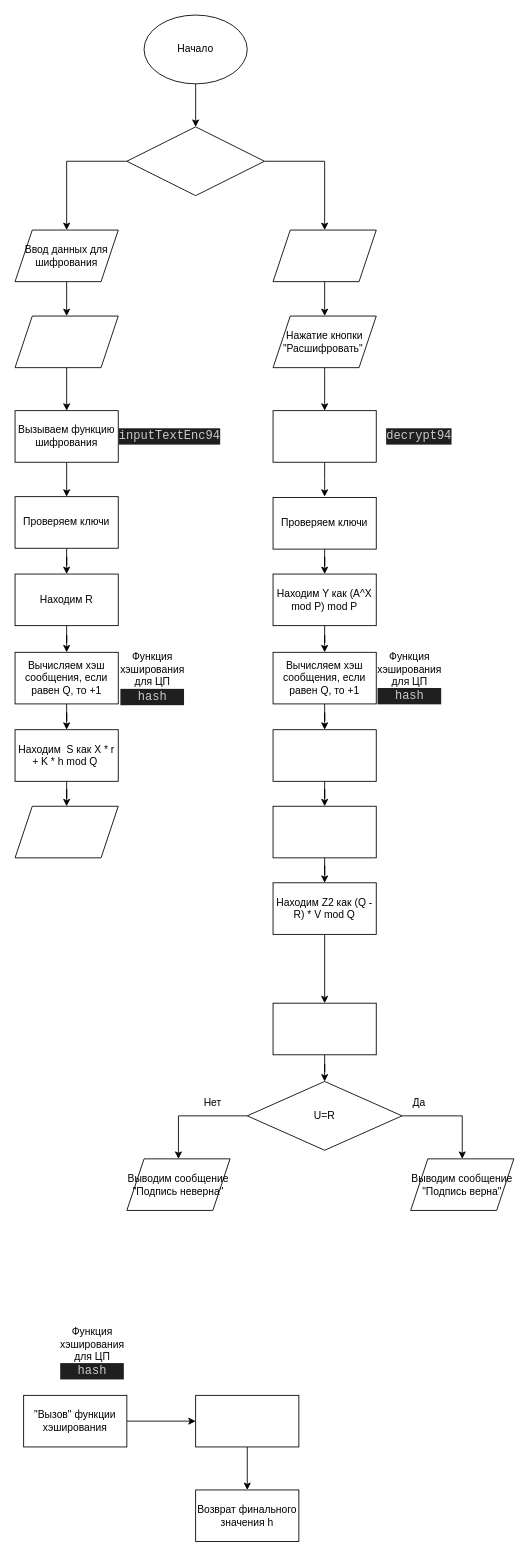
Some shapes in this 529 by 1557 pixel diagram are drawn without their labels. The shapes that lost their labels are listed below. From the top down, each one's centre as x and y in pixels, then its label:
pixel 195 161: Выбор дальнейшего действия
pixel 324 255: Ввод данных для расшифрования
pixel 66 341: Нажатие кнопки "Шифровать"
pixel 324 436: Вызываем функцию расшифрования
pixel 324 755: Находим V как h(хэш)^(Q-2) mod Q
pixel 66 831: Выводим результат (r,s)
pixel 324 831: Находим Z1 как S * V mod Q
pixel 324 1028: Находим U как (A^Z1 * Y^Z2 mod P) mod Q
pixel 247 1420: Посимвольное вычисление по формуле ((M[i] + 1) + h) ^ 2 mod n
